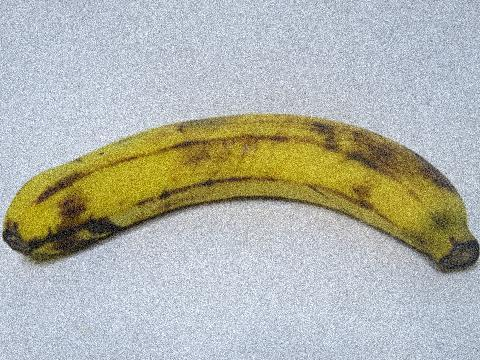overripe: (7, 99, 479, 278)
